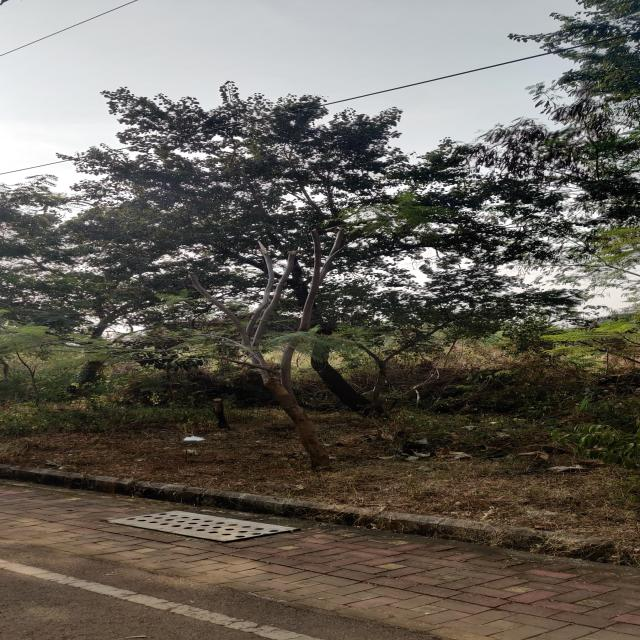Devakanchan tree: (100, 88, 435, 283)
